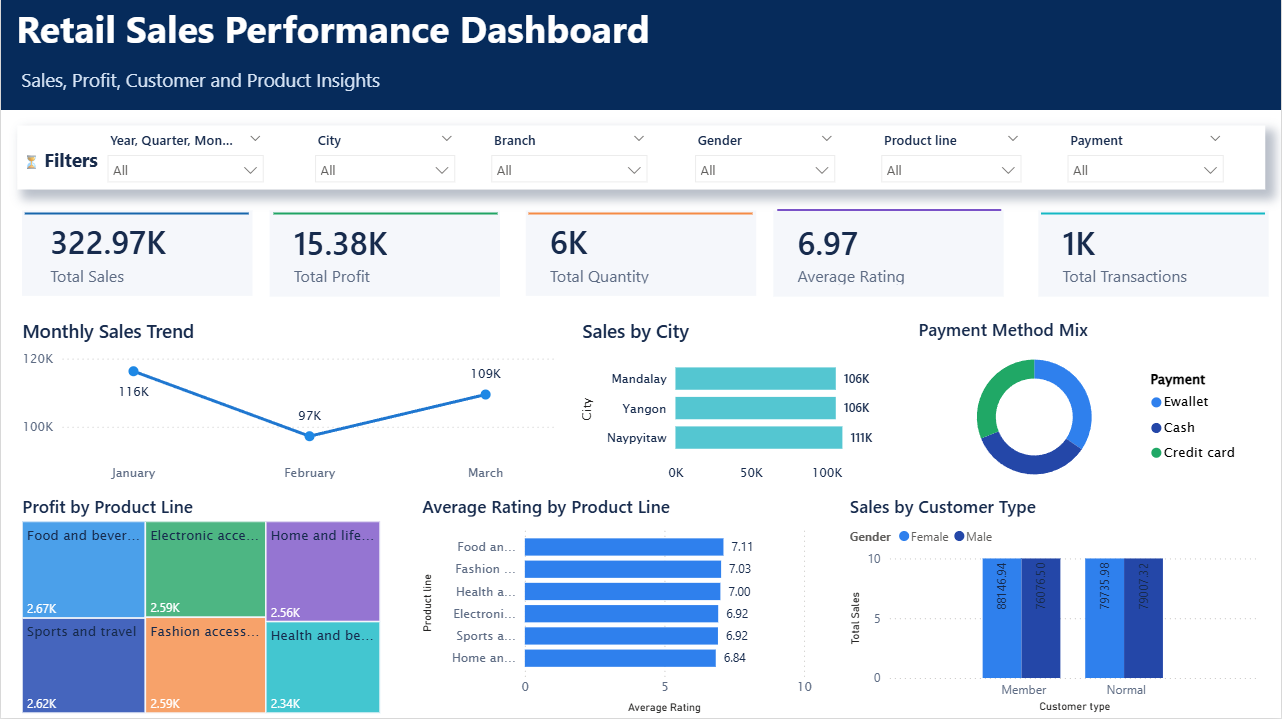

Layout of this report page (visuals, bound fields, positions):
{"tool":"powerbi","page":{"name":"sales","canvas":[1280,720],"ordinal":0},"visuals":[{"type":"shape","box":[0,0,1280,64],"z":0},{"type":"textbox","box":[0,0,1280,112],"z":1000},{"type":"textbox","box":[0,64,1280,48],"z":2000},{"type":"shape","box":[16,128,1248,64],"z":3000},{"type":"textbox","box":[16,144,88,40],"z":4000},{"type":"slicer","fields":{"Values":["Sheet1.Date.Variation.Date Hierarchy.Year","Sheet1.Date.Variation.Date Hierarchy.Quarter","Sheet1.Date.Variation.Date Hierarchy.Month","Sheet1.Date.Variation.Date Hierarchy.Day"]},"box":[96,128,176,64],"z":5000},{"type":"slicer","fields":{"Values":["Sheet1.Branch"]},"box":[480,128,176,64],"z":6000},{"type":"slicer","fields":{"Values":["Sheet1.City"]},"box":[304,128,160,64],"z":7000},{"type":"slicer","fields":{"Values":["Sheet1.Gender"]},"box":[683.2,128,160,64],"z":8000},{"type":"slicer","fields":{"Values":["Sheet1.Product line"]},"box":[869.6,128,160,64],"z":9000},{"type":"slicer","fields":{"Values":["Sheet1.Payment"]},"box":[1056,128,176,64],"z":10000},{"type":"cardVisual","fields":{"Data":["Sheet1.Total Sales"]},"box":[16,208,240,96],"z":11000},{"type":"cardVisual","fields":{"Data":["Sheet1.Total Profit"]},"box":[264,208,240,96],"z":12000},{"type":"cardVisual","fields":{"Data":["Sheet1.Total Quantity"]},"box":[520,208,240,96],"z":13000},{"type":"cardVisual","fields":{"Data":["Sheet1.Total Transactions"]},"box":[1032,208,240,96],"z":14000},{"type":"cardVisual","fields":{"Data":["Sheet1.Average Rating"]},"box":[768,208,240,96],"z":15000},{"type":"shape","box":[1040,208,224,16],"z":16000},{"type":"shape","box":[528,208,224,16],"z":17000},{"type":"shape","box":[776,200,224,24],"z":18000},{"type":"shape","box":[272,208,224,16],"z":19000},{"type":"shape","box":[24,208,224,16],"z":20000},{"type":"lineChart","title":"Monthly Sales Trend","fields":{"Y":["Sheet1.Total Sales"],"Category":["Sheet1.Date.Variation.Date Hierarchy.Year","Sheet1.Date.Variation.Date Hierarchy.Quarter","Sheet1.Date.Variation.Date Hierarchy.Month","Sheet1.Date.Variation.Date Hierarchy.Day"]},"box":[16,320,544,176],"z":21000},{"type":"treemap","title":"Profit by Product Line","fields":{"Group":["Sheet1.Product line"],"Values":["Sheet1.Total Profit"]},"box":[16,496,368,224],"z":22000},{"type":"donutChart","title":"Payment Method Mix","fields":{"Category":["Sheet1.Payment"],"Y":["CountNonNull(Sheet1.Invoice ID)"]},"box":[912,320,336,176],"z":23000},{"type":"clusteredBarChart","title":"Sales by City","fields":{"Y":["Sheet1.Total Sales"],"Category":["Sheet1.City"]},"box":[576,320,320,176],"z":24000},{"type":"clusteredColumnChart","title":"Sales by Customer Type","fields":{"Category":["Sheet1.Customer type"],"Y":["Sheet1.Total Sales"],"Series":["Sheet1.Gender"]},"box":[843.8,496.2,420,223.8],"z":25000},{"type":"barChart","title":"Average Rating by Product Line","fields":{"Y":["Sheet1.Average Rating"],"Category":["Sheet1.Product line"]},"box":[416,496,400,224],"z":26000}]}

Visuals, with their boxes in screenshot pixels (x1, y1, x2, y2), scaled from the page's 1280x720 canvas onto the 1282x719 screenshot:
shape: bbox=(0, 0, 1281, 64)
textbox: bbox=(0, 0, 1281, 112)
textbox: bbox=(0, 64, 1281, 112)
shape: bbox=(16, 128, 1266, 192)
textbox: bbox=(16, 144, 104, 184)
slicer - Sheet1.Date.Variation.Date Hierarchy.Year x Sheet1.Date.Variation.Date Hierarchy.Quarter: bbox=(96, 128, 272, 192)
slicer - Sheet1.Branch: bbox=(481, 128, 657, 192)
slicer - Sheet1.City: bbox=(304, 128, 465, 192)
slicer - Sheet1.Gender: bbox=(684, 128, 845, 192)
slicer - Sheet1.Product line: bbox=(871, 128, 1031, 192)
slicer - Sheet1.Payment: bbox=(1058, 128, 1234, 192)
cardVisual - Sheet1.Total Sales: bbox=(16, 208, 256, 304)
cardVisual - Sheet1.Total Profit: bbox=(264, 208, 505, 304)
cardVisual - Sheet1.Total Quantity: bbox=(521, 208, 761, 304)
cardVisual - Sheet1.Total Transactions: bbox=(1034, 208, 1274, 304)
cardVisual - Sheet1.Average Rating: bbox=(769, 208, 1010, 304)
shape: bbox=(1042, 208, 1266, 224)
shape: bbox=(529, 208, 753, 224)
shape: bbox=(777, 200, 1002, 224)
shape: bbox=(272, 208, 497, 224)
shape: bbox=(24, 208, 248, 224)
"Monthly Sales Trend" lineChart: bbox=(16, 320, 561, 495)
"Profit by Product Line" treemap: bbox=(16, 495, 385, 718)
"Payment Method Mix" donutChart: bbox=(913, 320, 1250, 495)
"Sales by City" clusteredBarChart: bbox=(577, 320, 897, 495)
"Sales by Customer Type" clusteredColumnChart: bbox=(845, 496, 1266, 718)
"Average Rating by Product Line" barChart: bbox=(417, 495, 817, 718)
